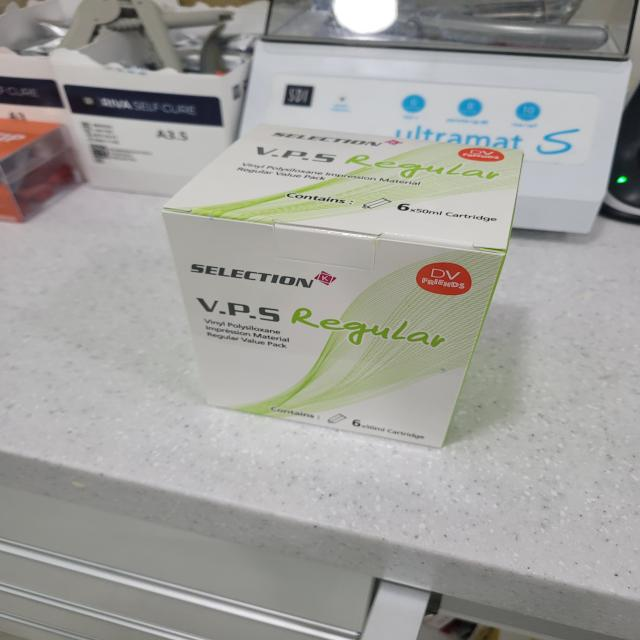impression: (141, 109, 530, 474)
